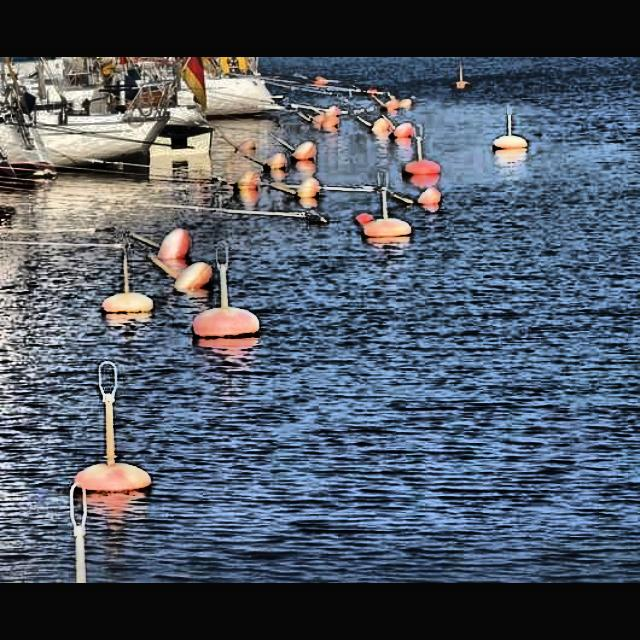buoy: (70, 360, 154, 498), (189, 242, 263, 340), (101, 234, 155, 322), (356, 166, 414, 238), (400, 123, 442, 177), (490, 101, 530, 150), (156, 218, 192, 264), (169, 263, 215, 295), (292, 176, 322, 204), (413, 183, 443, 209), (230, 170, 262, 193), (256, 153, 288, 173), (290, 142, 316, 162), (234, 137, 258, 157), (391, 120, 414, 140), (369, 116, 391, 136), (320, 114, 340, 132)
